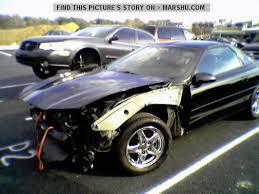bonnet-dent: (34, 69, 140, 106)
fender-dent: (110, 86, 182, 115)
